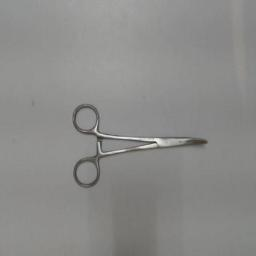Crile Artery Forceps: (70, 98, 212, 188)
